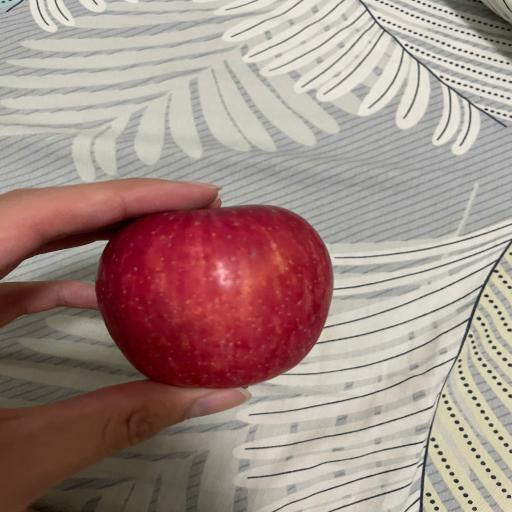apple: (96, 205, 333, 388)
